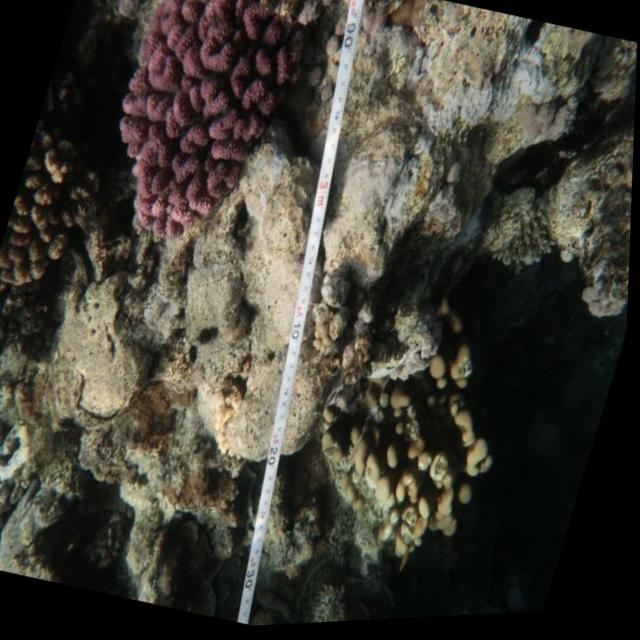Healthy Coral: (78, 0, 329, 283)
